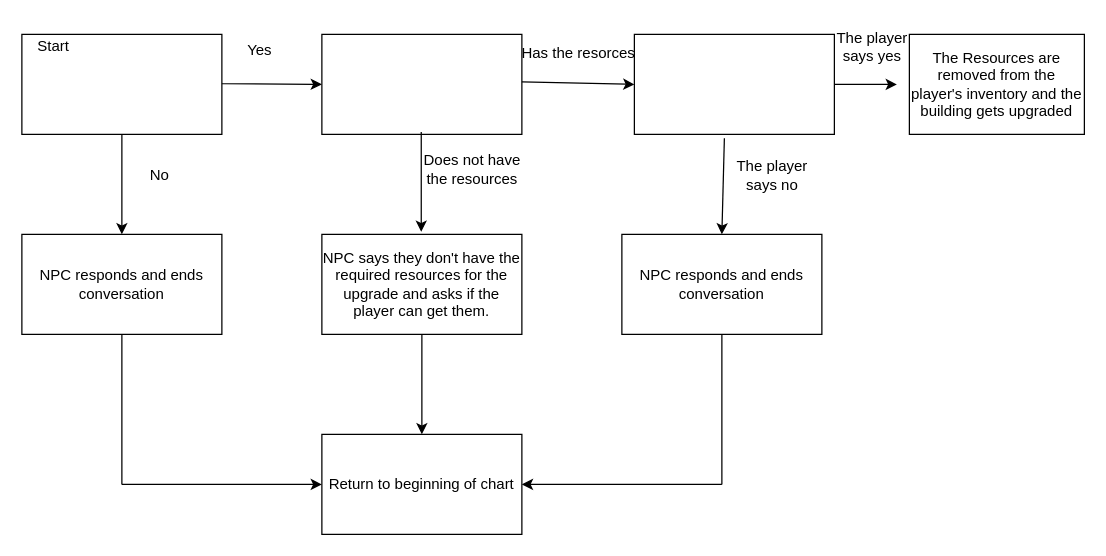
Some shapes in this 1106 by 556 pixel diagram are drawn without their labels. Each missing label, with the box of its shape:
NPC asks for specific resources for upgrades: (321, 33, 522, 134)
NPC asks if the player is sure they want to give them the resources.: (633, 33, 834, 134)
NPC asks Player if the want to upgrade their shop: (21, 33, 222, 134)
